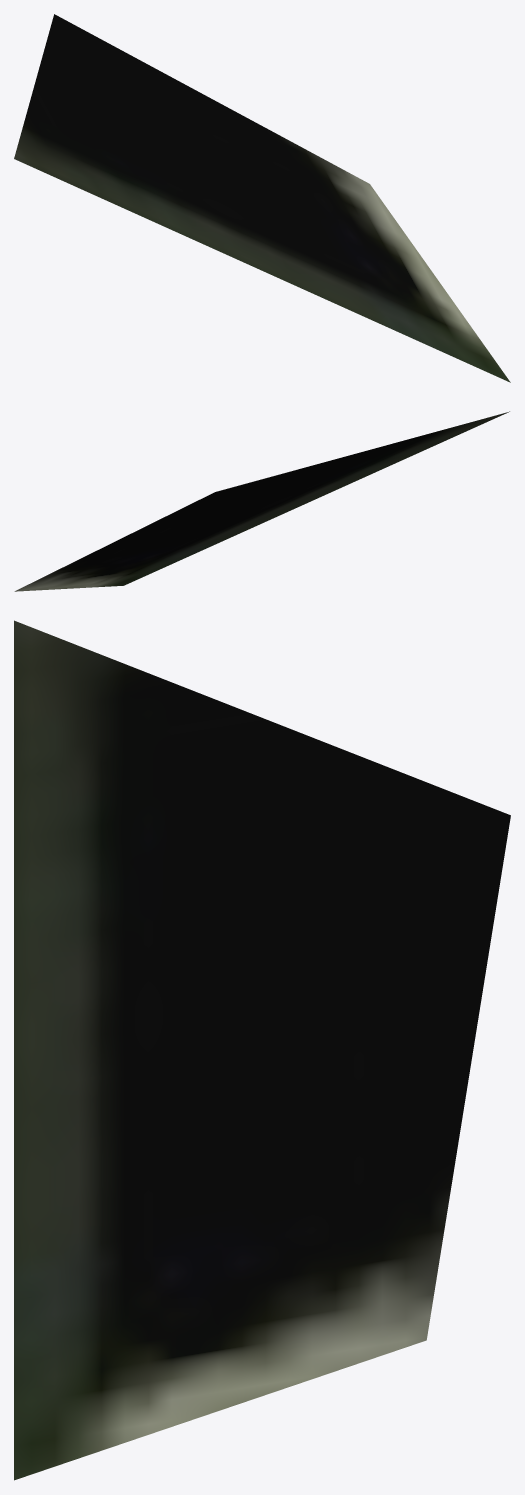
3 renders of one model, top to bottom at view 1: azimuth 30°, elevation 25°; view 2: azimuth 150°, elevation 25°; view 3: azimuth 270°, elevation 25°, orthographic. The views are drawn at different scales.
Bounding box in the file's own units: 3.1 × 2.06 × 1.83.
1 material, 1 textured.
